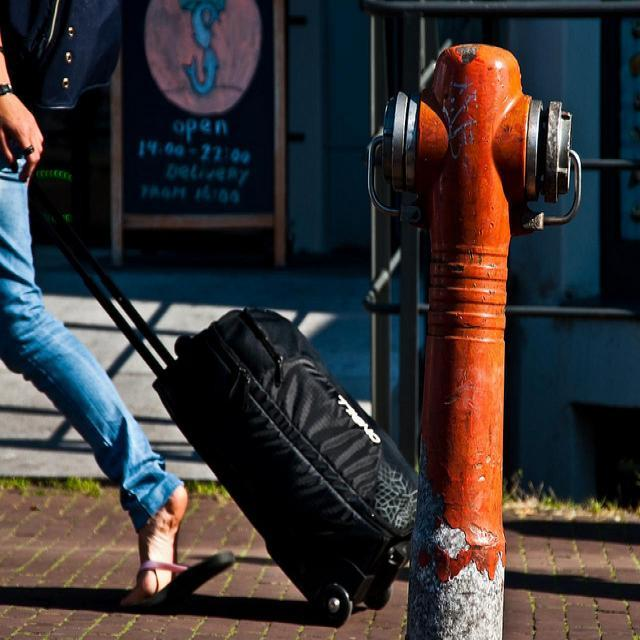fire_hydrant: (369, 35, 581, 631)
